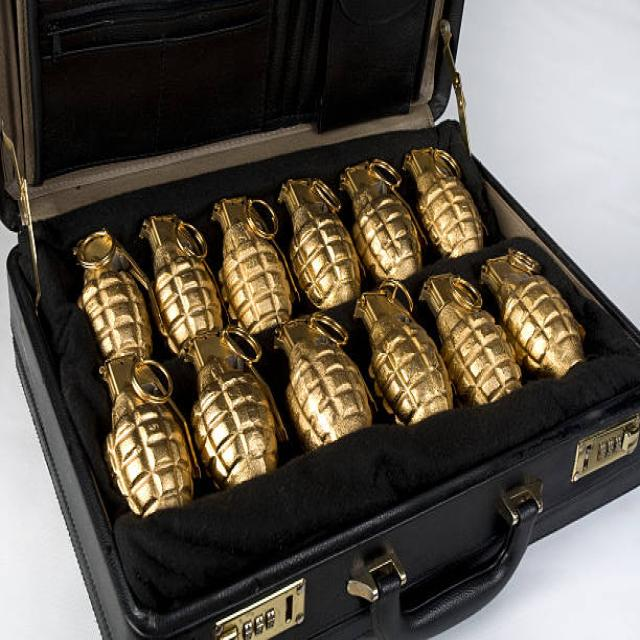grenade: (181, 323, 294, 492), (478, 249, 592, 390), (420, 271, 526, 413), (277, 312, 375, 449), (208, 188, 299, 334), (68, 222, 155, 371), (336, 152, 429, 288)
